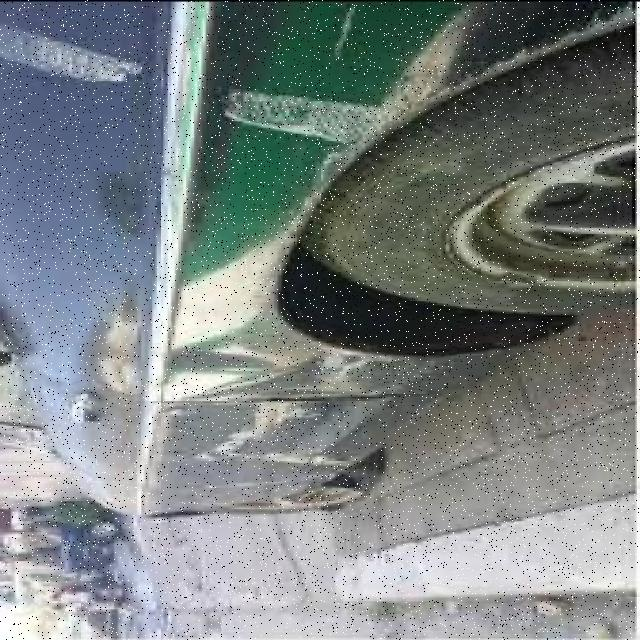damage: (220, 353, 422, 407)
